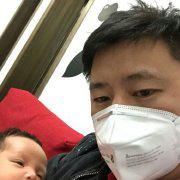NONE: (2, 154, 49, 180)
OK: (91, 71, 180, 178)
